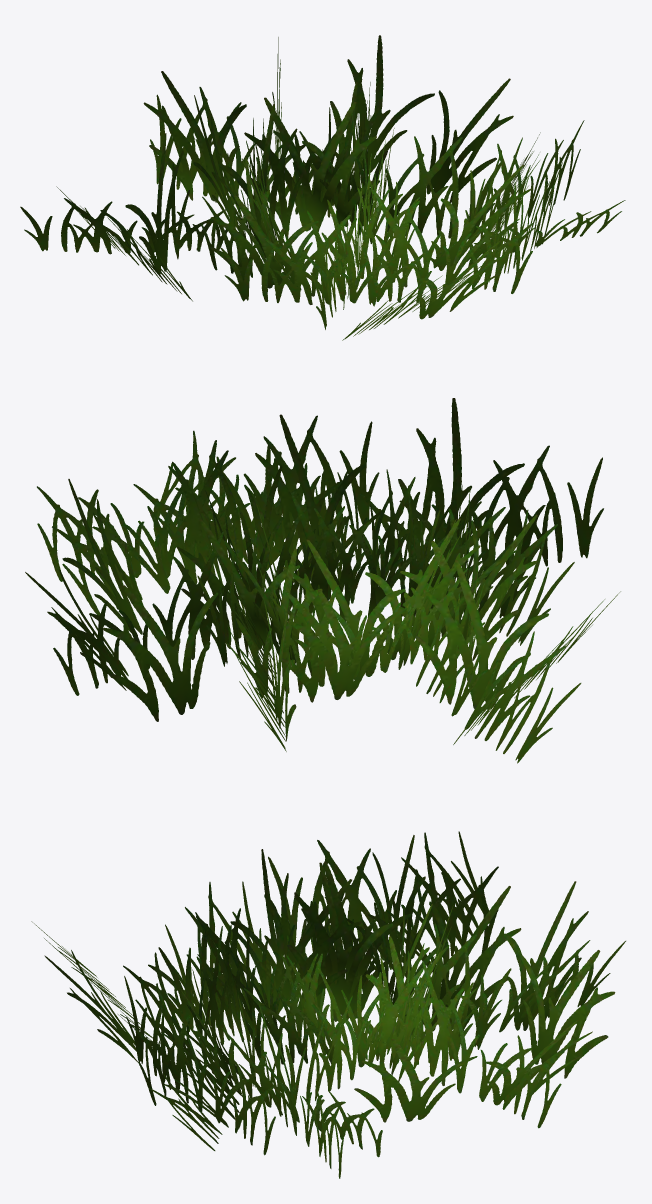
The picture shows the model from 3 angles, top to bottom: view 1: azimuth 30°, elevation 25°; view 2: azimuth 150°, elevation 25°; view 3: azimuth 270°, elevation 25°; orthographic projection. The views are drawn at different scales.
Parts seen in each view (by area): view 1: SM_BM_GrassShort_01_LOD0; view 2: SM_BM_GrassShort_01_LOD0; view 3: SM_BM_GrassShort_01_LOD0.
Boxes of the visible parts, x1,y1,x2,y2 form: SM_BM_GrassShort_01_LOD0: [20, 35, 625, 340]; SM_BM_GrassShort_01_LOD0: [25, 398, 620, 763]; SM_BM_GrassShort_01_LOD0: [31, 831, 625, 1178].
Bounding box in the file's own units: 1.19 × 0.3527 × 1.09.
Materials: 1 (1 with a texture image).
